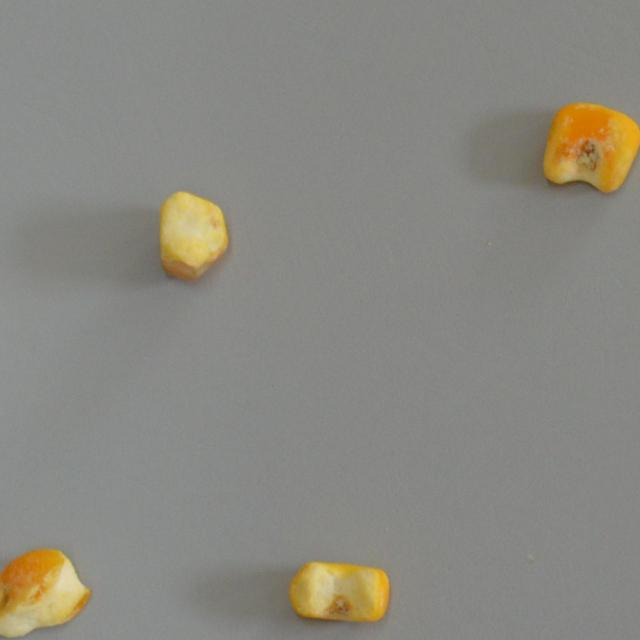dañado: (137, 180, 250, 288), (281, 536, 394, 640), (536, 90, 640, 198), (0, 536, 85, 640)
